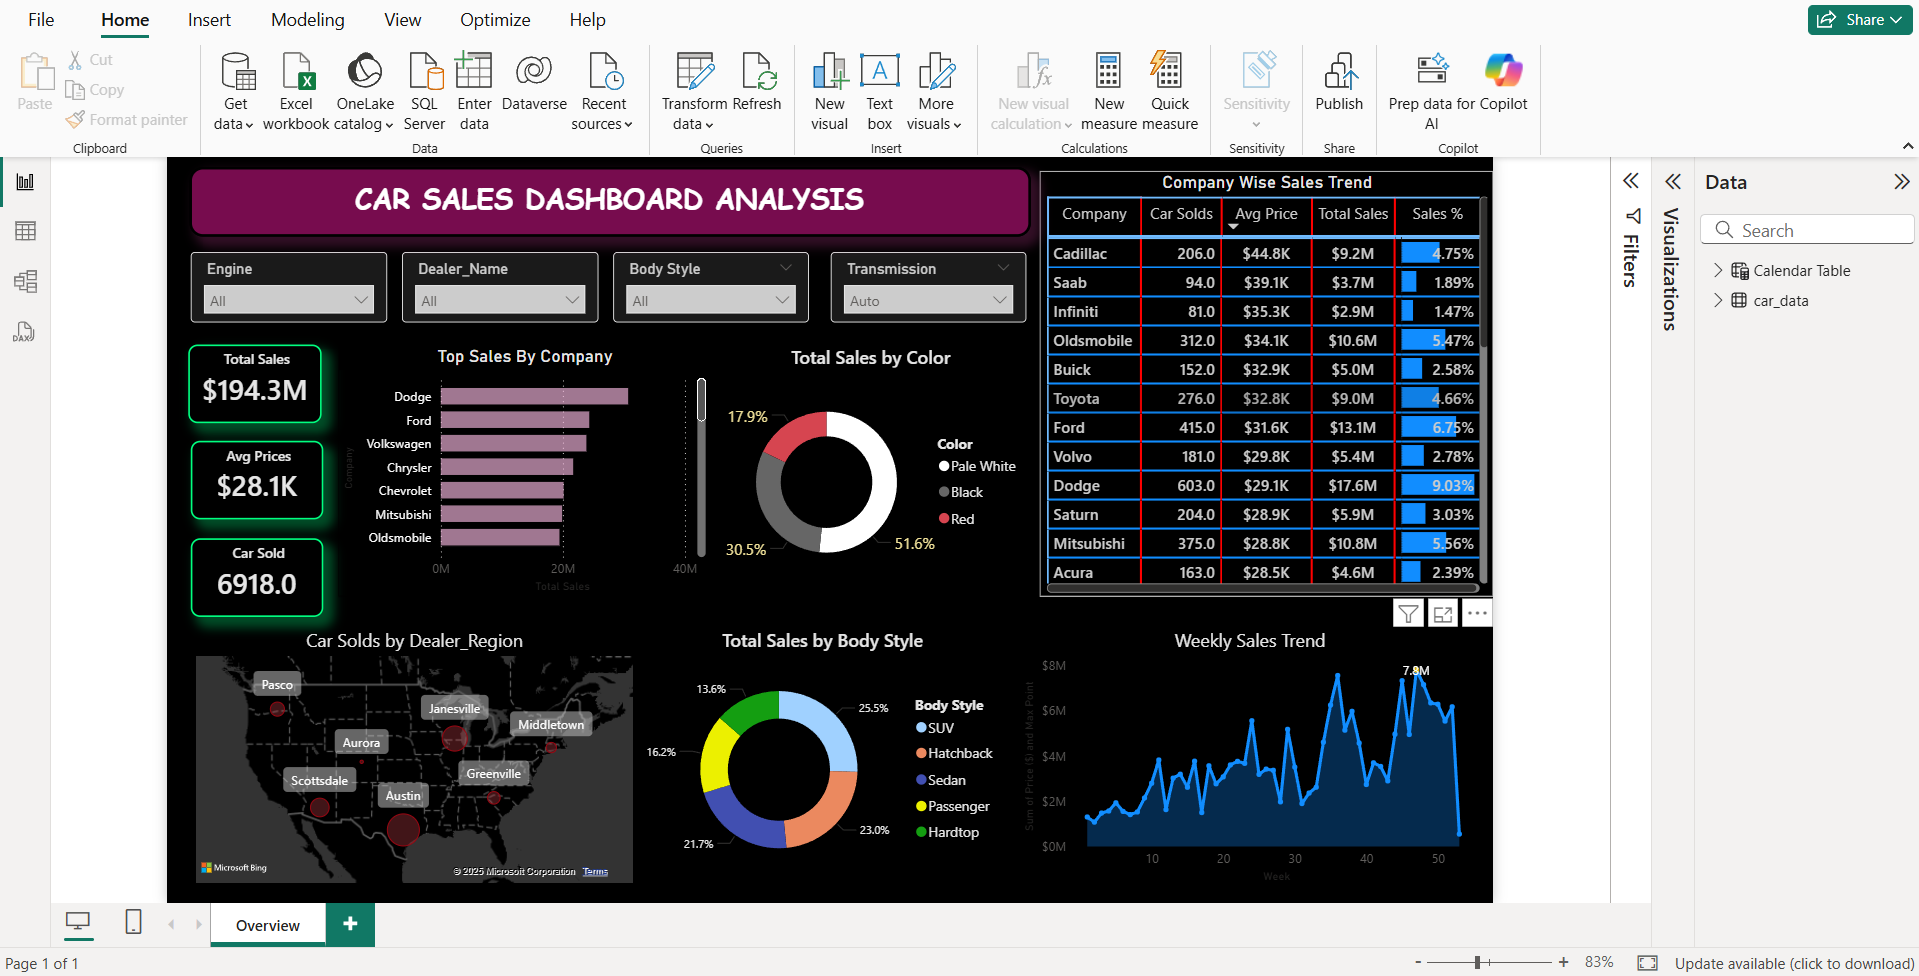

What the dashboard file says about the page in this screenshot:
{"tool":"powerbi","page":{"name":"Overview","canvas":[1280,720],"ordinal":0},"visuals":[{"type":"card","title":"Total Sales","fields":{"Values":["car_data.YTD Total Sales"]},"box":[20.5,181,129.1,76],"z":0},{"type":"card","title":"Avg Prices","fields":{"Values":["car_data.YTD Avg Price"]},"box":[22.9,273.9,127.9,76],"z":1000},{"type":"card","title":"Car Sold","fields":{"Values":["car_data.YTD Car Solds"]},"box":[22.9,368,127.9,76],"z":2000},{"type":"areaChart","title":"Weekly Sales Trend","fields":{"Category":["Calendar Table.Week"],"Y":["Sum(car_data.Price ($))","car_data.Max Point"]},"box":[821.5,455.1,447.8,250.7],"z":3000},{"type":"donutChart","title":"Total Sales by Body Style","fields":{"Category":["car_data.Body Style"],"Y":["car_data.YTD Total Sales"]},"box":[454.8,454.8,355.9,250.9],"z":4000},{"type":"donutChart","title":"Total Sales by Color","fields":{"Y":["car_data.YTD Total Sales"],"Category":["car_data.Color"]},"box":[524.8,181,308.8,243.7],"z":5000},{"type":"map","title":"Car Solds by Dealer_Region","fields":{"Category":["car_data.Dealer_Region"],"Size":["car_data.YTD Car Solds"]},"box":[23.1,455.1,432,250.7],"z":6000},{"type":"tableEx","title":"Company Wise Sales Trend","fields":{"Values":["car_data.Company","car_data.YTD Car Solds","car_data.YTD Avg Price","car_data.YTD Total Sales1","car_data.YTD Total Sales"]},"box":[842.1,13.4,438.1,411.3],"z":7000},{"type":"slicer","fields":{"Values":["car_data.Body Style"]},"box":[430.8,91.3,188.6,68.2],"z":8000},{"type":"slicer","fields":{"Values":["car_data.Dealer_Name"]},"box":[226.4,91.3,189.8,68.2],"z":9000},{"type":"slicer","fields":{"Values":["car_data.Transmission"]},"box":[640.1,91.3,188.6,68.2],"z":10000},{"type":"slicer","fields":{"Values":["car_data.Engine"]},"box":[23.1,91.3,189.8,68.2],"z":11000},{"type":"textbox","box":[21.9,9.7,811.7,66.9],"z":12000},{"type":"barChart","title":"Top Sales By Company","fields":{"Category":["car_data.Company"],"Y":["car_data.Total Sales"]},"box":[165.5,181.3,359,243.4],"z":13000}]}

Visuals, with their boxes on the page's 1280x720 design canvas (x1, y1, x2, y2). These are canvas units, not pixel positions in the 1919x976 screenshot, which may show the page scaled, cropped or inside an application window:
"Total Sales" card: region(20, 181, 150, 257)
"Avg Prices" card: region(23, 274, 151, 350)
"Car Sold" card: region(23, 368, 151, 444)
"Weekly Sales Trend" areaChart: region(822, 455, 1269, 706)
"Total Sales by Body Style" donutChart: region(455, 455, 811, 706)
"Total Sales by Color" donutChart: region(525, 181, 834, 425)
"Car Solds by Dealer_Region" map: region(23, 455, 455, 706)
"Company Wise Sales Trend" tableEx: region(842, 13, 1280, 425)
slicer - car_data.Body Style: region(431, 91, 619, 160)
slicer - car_data.Dealer_Name: region(226, 91, 416, 160)
slicer - car_data.Transmission: region(640, 91, 829, 160)
slicer - car_data.Engine: region(23, 91, 213, 160)
textbox: region(22, 10, 834, 77)
"Top Sales By Company" barChart: region(166, 181, 524, 425)
